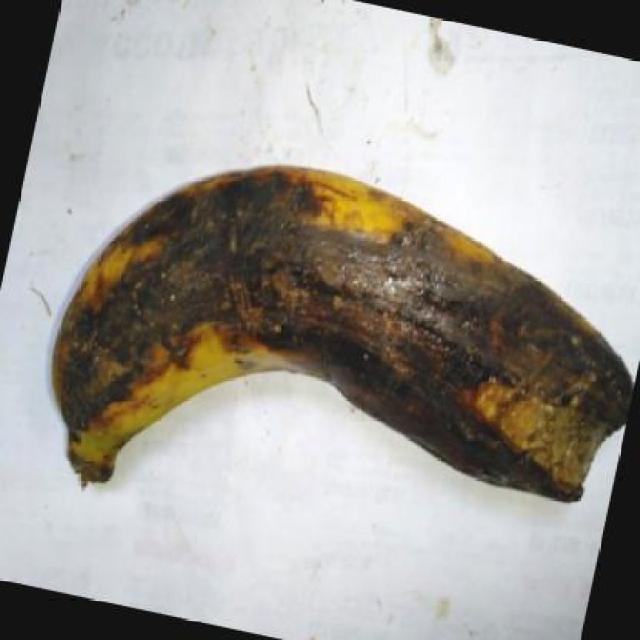rotten: (14, 118, 632, 569)
